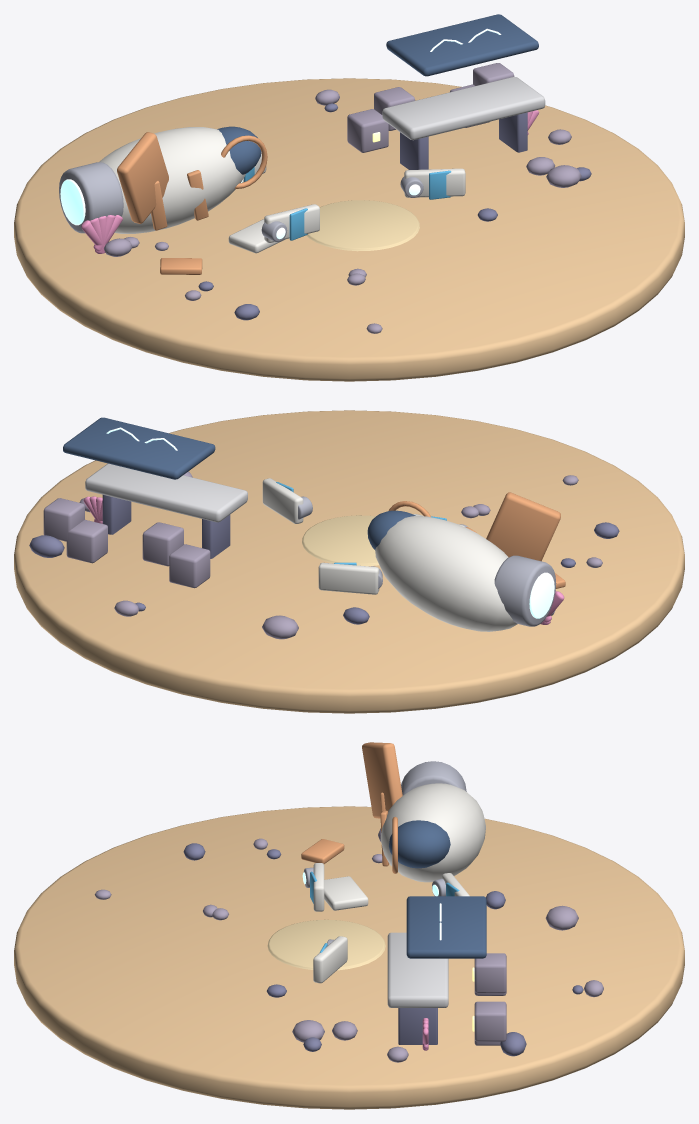
File: crash_site.glb
3 views of the same model, one above another, from view 1: azimuth 30°, elevation 25°; view 2: azimuth 150°, elevation 25°; view 3: azimuth 270°, elevation 25° (orthographic).
Visible parts, largest first — view 1: Ground_Main, Crashed_Ship_Hull, Workbench_Top, Blueprint_Board, Robo_Hero_Pad, Broken_Fin, Engine_Main, Supply_Crate_0, Ship_Cockpit, Wing_Part_Display_1_Panel, Workbench_Leg_6.0, Workbench_Leg_3.0 (+8 smaller); view 2: Ground_Main, Crashed_Ship_Hull, Blueprint_Board, Workbench_Top, Broken_Fin, Robo_Hero_Pad, Engine_Main, Wing_Part_Display_2_Panel, Supply_Crate_0, Supply_Crate_2, Supply_Crate_1, Supply_Crate_3 (+7 smaller); view 3: Ground_Main, Crashed_Ship_Hull, Blueprint_Board, Robo_Hero_Pad, Workbench_Top, Ship_Cockpit, Broken_Fin, Workbench_Leg_6.0, Supply_Crate_3, Engine_Main, Supply_Crate_1, Hull_Debris_A (+4 smaller).
Part boxes in pixels (x1,y1,x2,y2): Ground_Main: (14,78,684,381); Crashed_Ship_Hull: (99,127,245,233); Workbench_Top: (382,76,545,140); Blueprint_Board: (386,14,538,76); Robo_Hero_Pad: (306,200,419,251); Broken_Fin: (117,132,168,223); Engine_Main: (59,162,123,233); Supply_Crate_0: (347,109,388,152); Ship_Cockpit: (217,126,261,174); Wing_Part_Display_1_Panel: (404,168,465,197); Workbench_Leg_6.0: (499,112,527,152); Workbench_Leg_3.0: (400,132,428,169); Ground_Main: (14,410,684,713); Crashed_Ship_Hull: (375,516,517,631); Blueprint_Board: (63,417,215,479); Workbench_Top: (85,463,247,522); Broken_Fin: (486,492,560,561); Robo_Hero_Pad: (302,515,378,566); Engine_Main: (494,555,556,626); Wing_Part_Display_2_Panel: (318,562,379,594); Supply_Crate_0: (169,544,210,588); Supply_Crate_2: (66,519,107,563); Supply_Crate_1: (142,522,183,566); Supply_Crate_3: (43,498,84,541); Ground_Main: (14,806,684,1109); Crashed_Ship_Hull: (380,783,485,882); Blueprint_Board: (406,896,486,958); Robo_Hero_Pad: (267,919,385,970); Workbench_Top: (387,932,448,1007); Ship_Cockpit: (389,820,450,868); Broken_Fin: (362,742,402,818); Workbench_Leg_6.0: (398,1008,437,1044); Supply_Crate_3: (474,1001,506,1041); Engine_Main: (401,761,466,795); Supply_Crate_1: (474,953,506,993); Hull_Debris_A: (324,876,368,910).
Bounding box in the file's own units: 17.6 × 4.31 × 17.6.
